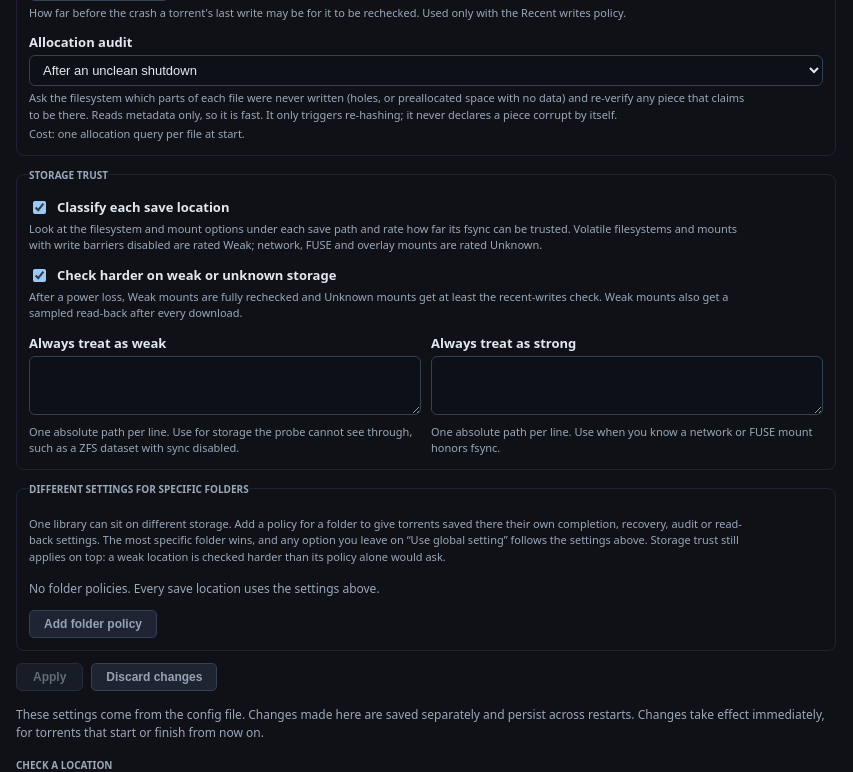
Test: CrashSafetyPanel › blocks Apply and explains why when a value is invalid
(page scrolled)
In the text box labelled "Always treat as weak": (225, 385) [29,356,421,415], type "not-absolute"
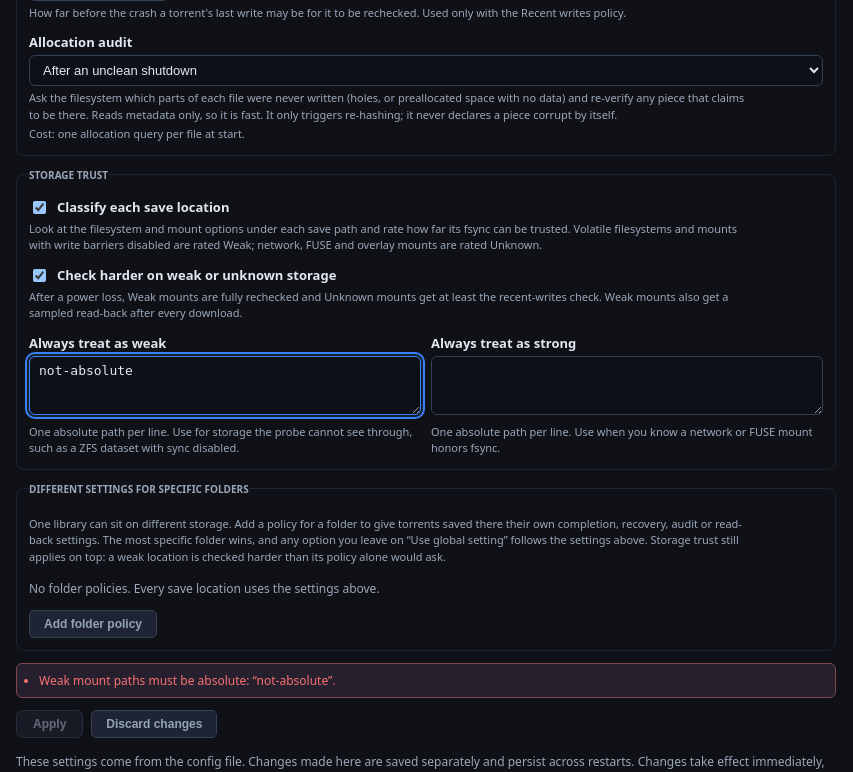
Check: the button "Apply" is disabled, box [16,710,83,738]
Check: the message shows "must be absolute", box [39,672,336,689]
